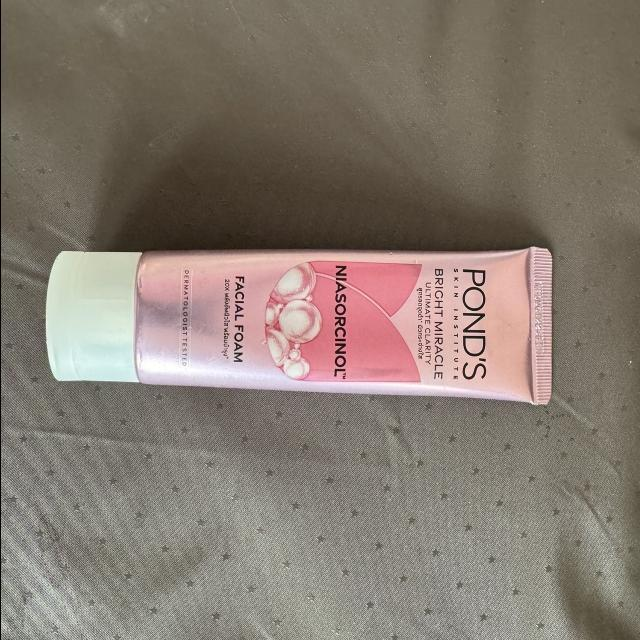Squeeze Tube: (10, 228, 618, 450)
